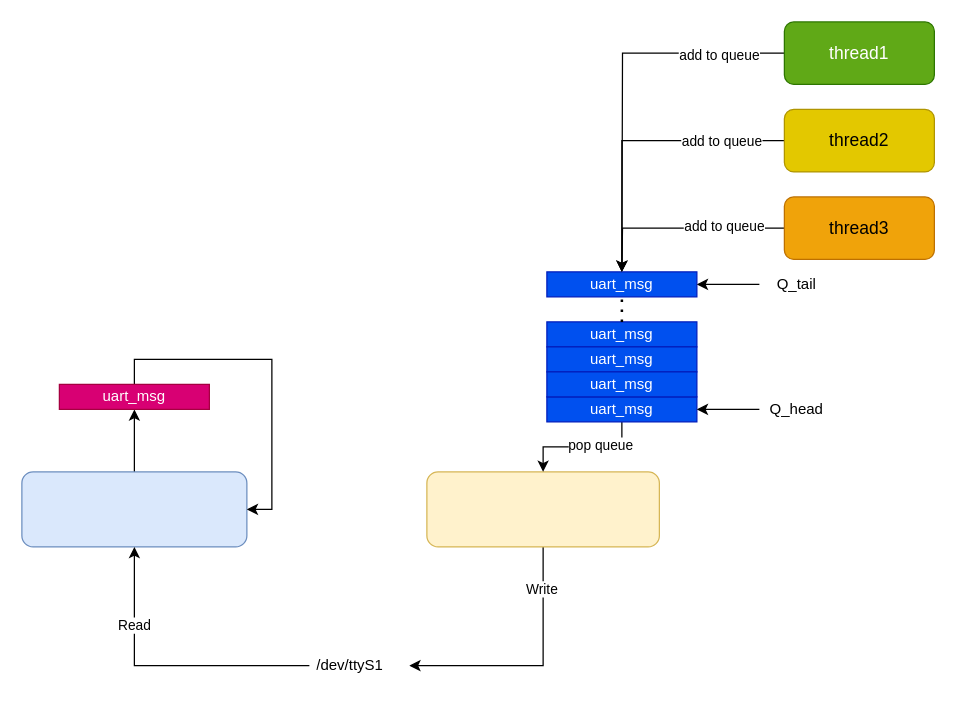
Image size: 956x706. Some labels were removed from this diagram. Here are the shapes that lost their labels. From the top down, the centre of each, then its label:
(x=134, y=509): receive_thread
(x=542, y=509): send_thread
